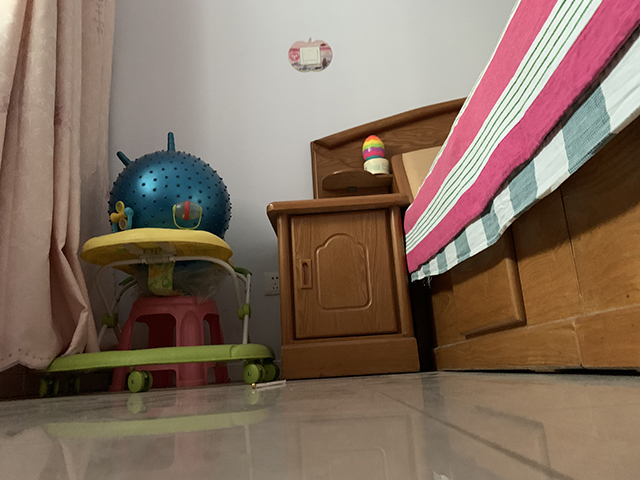bed: (307, 1, 640, 377)
cabinet: (265, 193, 421, 381)
curtain: (1, 1, 122, 381)
